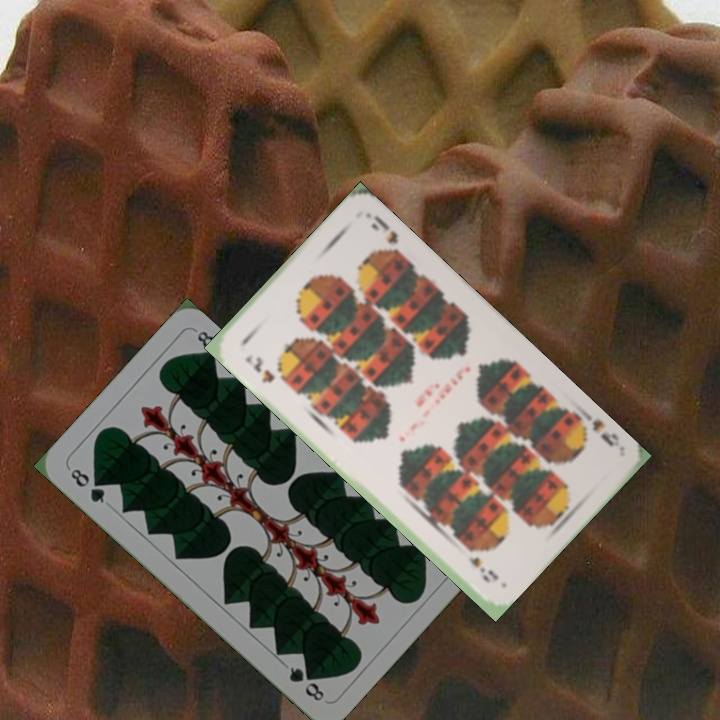G8: (64, 463, 108, 506)
S9: (574, 405, 622, 450), (241, 350, 278, 386)
